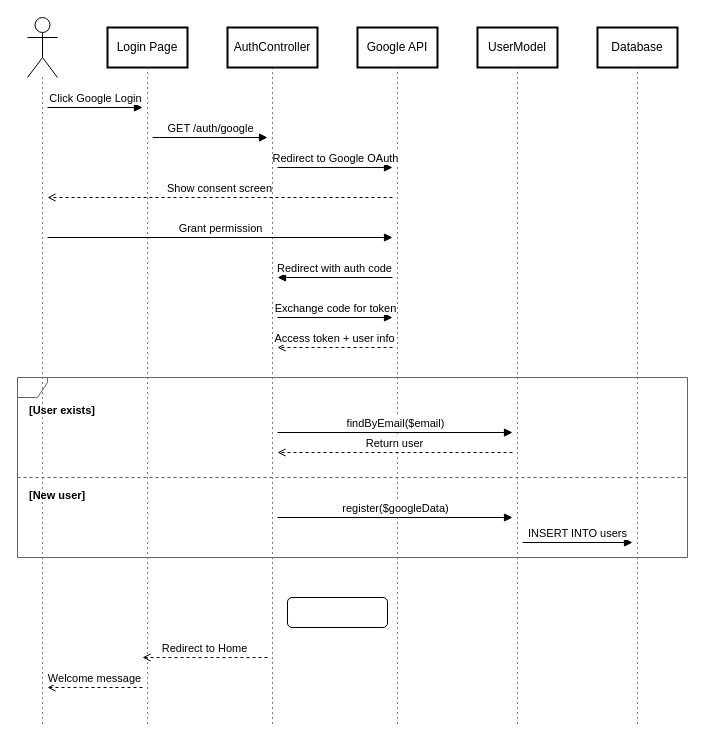
Some shapes in this 706 by 746 pixel diagram are drawn without their labels. The shapes that lost their labels are listed below. From the top down, each one's box as (x1, y1, x2, y2) in pixels, then its label:
(26, 16, 58, 78): User
(16, 376, 688, 558): alt
(286, 596, 388, 628): Create session
